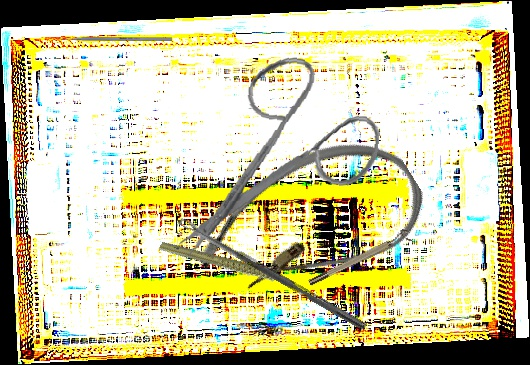Cannula: (180, 111, 441, 340)
Fixation Ring: (305, 227, 413, 288)
Handpiece: (157, 215, 299, 317)
Iris Scissors: (177, 45, 388, 281)
Pusher: (50, 37, 172, 41)
Surgical Spoon: (178, 216, 368, 331)
